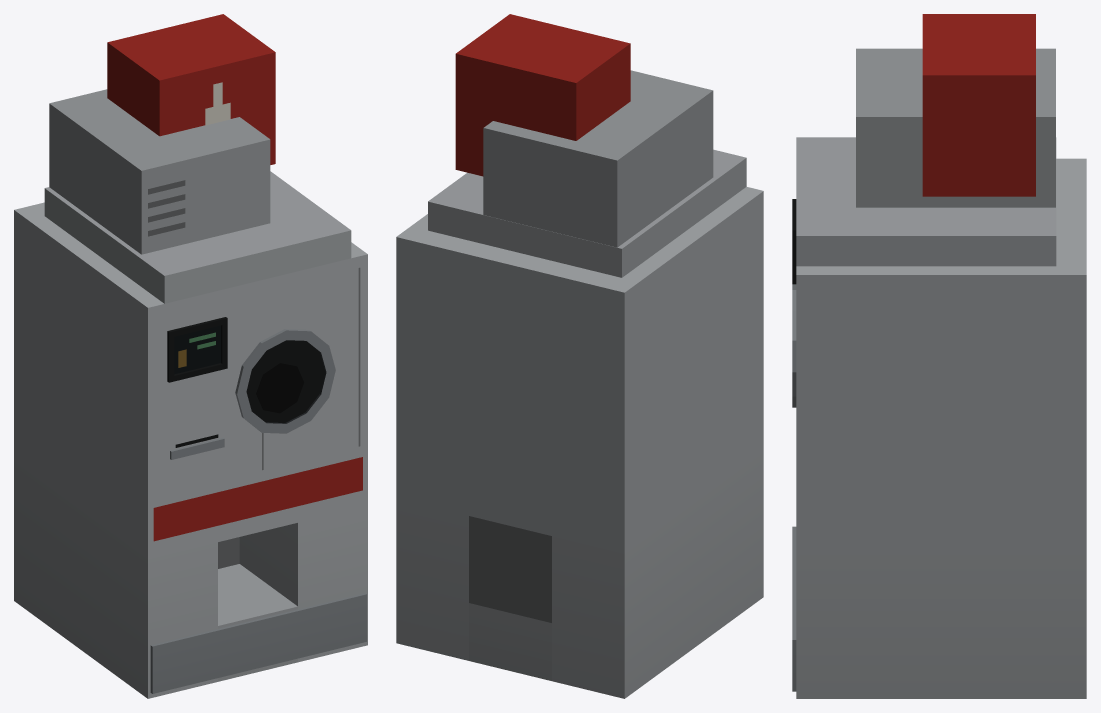
File: shop.bottle_return.red.glb
3 renders of one model, left to right at view 1: azimuth 30°, elevation 25°; view 2: azimuth 150°, elevation 25°; view 3: azimuth 270°, elevation 25°, orthographic. The views are drawn at different scales.
Parts seen in each view (by area): view 1: shop_bottle_return_red; view 2: shop_bottle_return_red; view 3: shop_bottle_return_red.
Boxes of the visible parts, bbox=[...] form: shop_bottle_return_red: bbox=[14, 14, 367, 698]; shop_bottle_return_red: bbox=[396, 14, 763, 698]; shop_bottle_return_red: bbox=[792, 14, 1086, 698].
Size of what is drawn, in the model's own units: 0.824 by 2 by 0.881.
